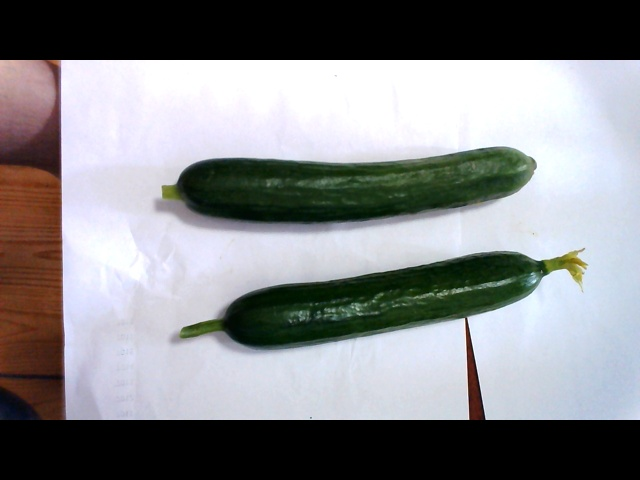cucumber: (206, 254, 581, 350), (157, 136, 550, 225)
